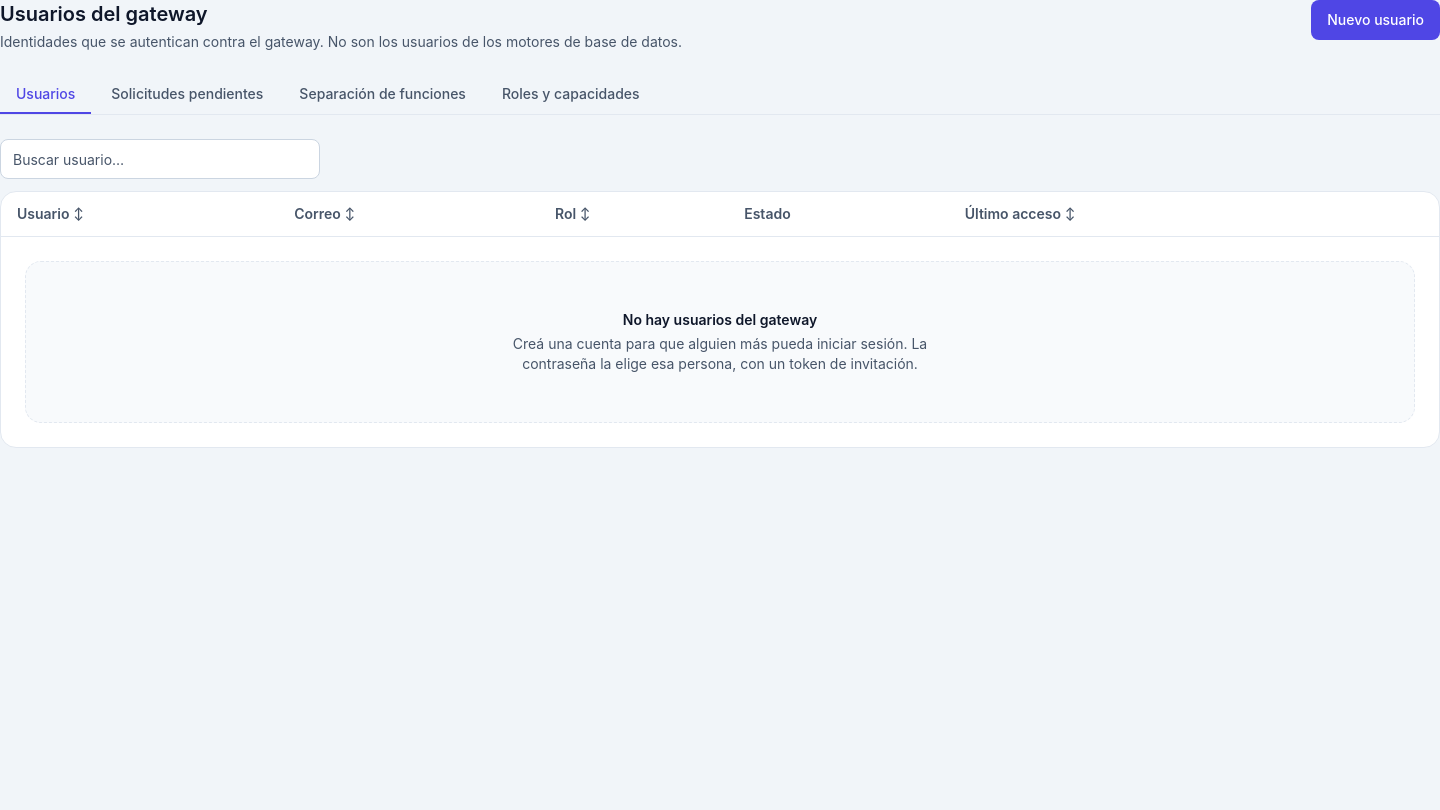
Test: GatewayUsersPage — alta con elevación pendiente (202) › entrega la invitación igual y dice, fijo, que el rol pedido espera a otra persona
Click the button "Nuevo usuario" at point(1376, 20), box [1311,0,1439,40]
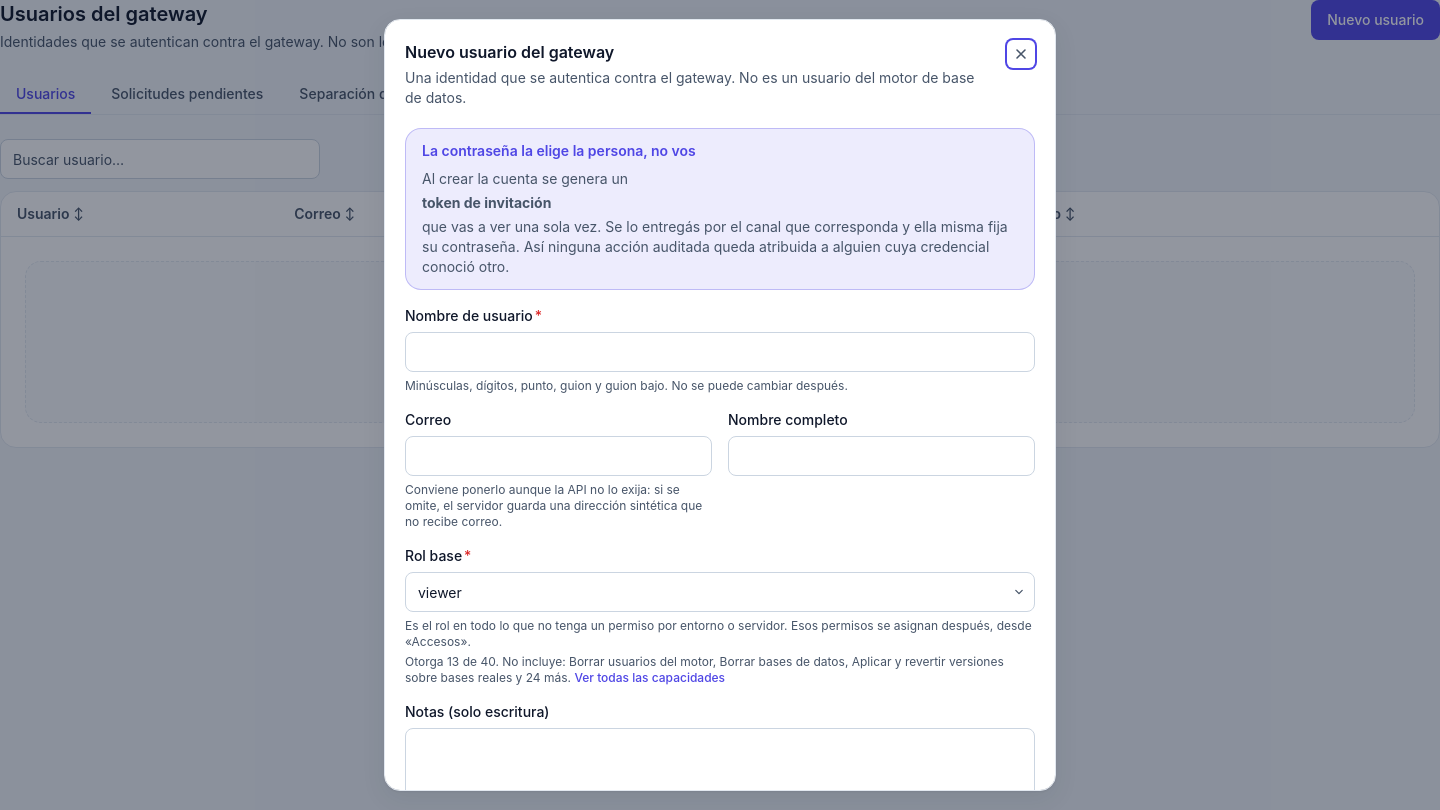
Type "ana" into the field labelled "Nombre de usuario*" at point(720, 352), box [405,332,1035,372]
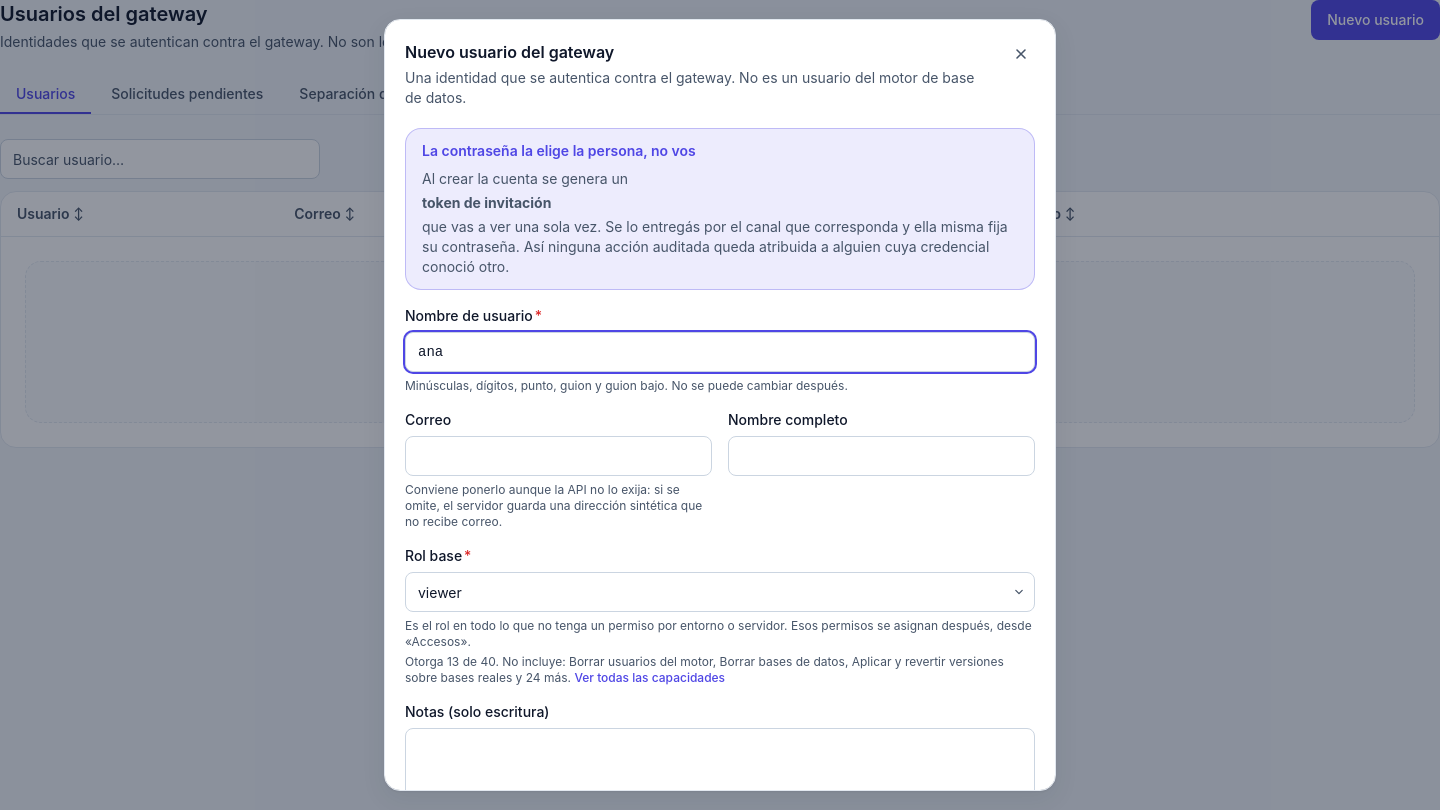
Click the button named "Abrir lista" at point(1019, 592), box [1007,580,1031,604]
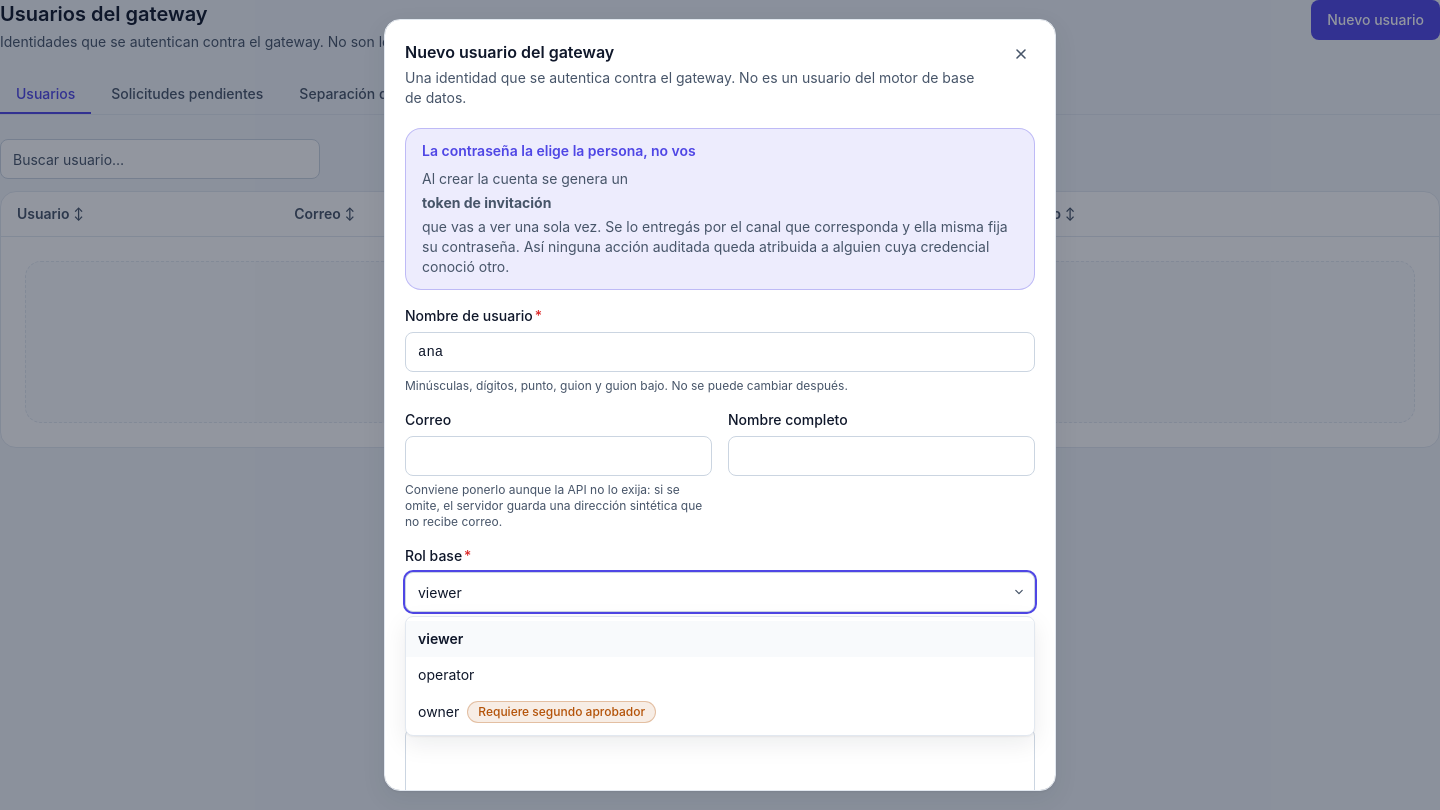
Click the option "owner Requiere segundo aprobador" at point(537, 712), box [418,701,656,723]
(page scrolled)
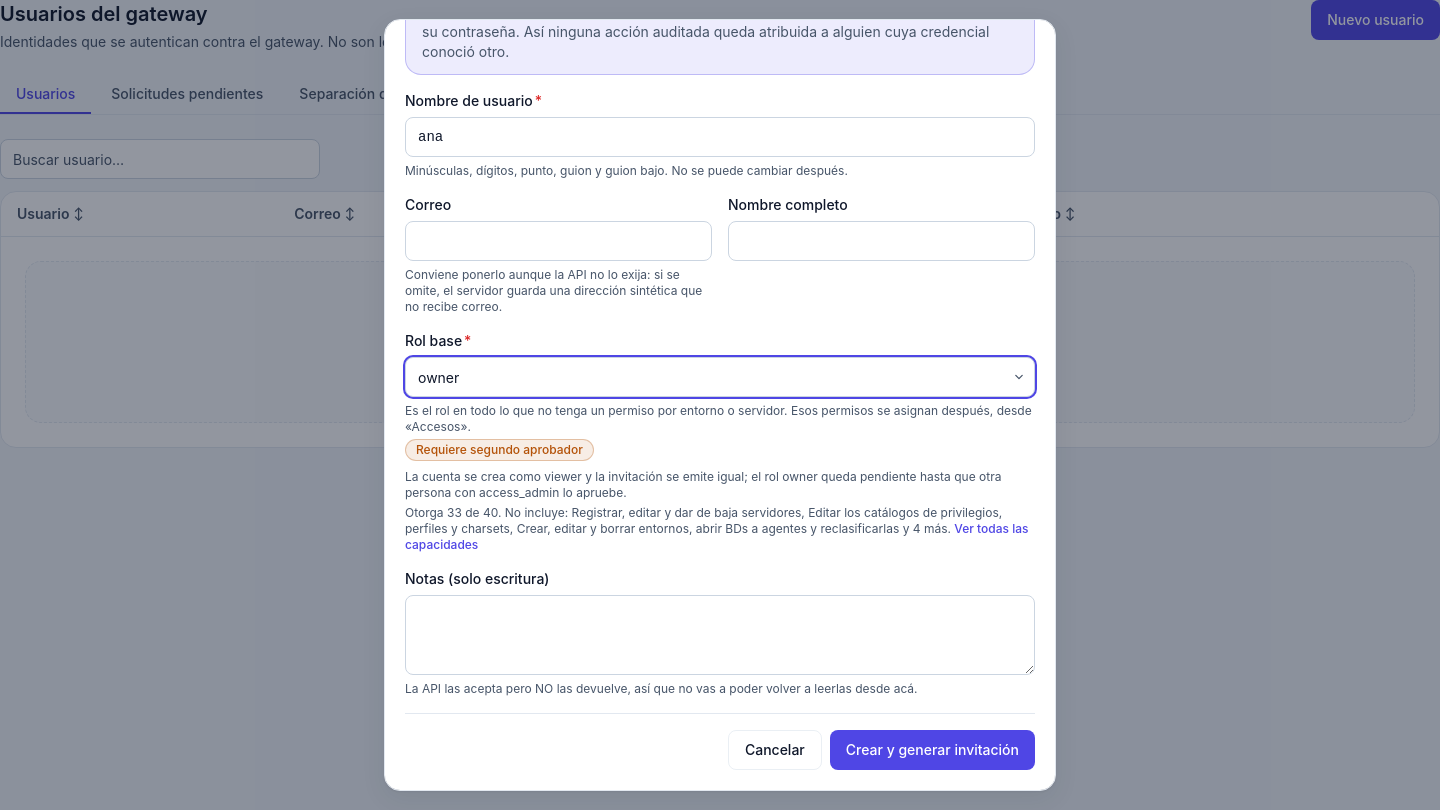
Click the button "Crear y generar invitación" at point(932, 750), box [830,730,1035,770]
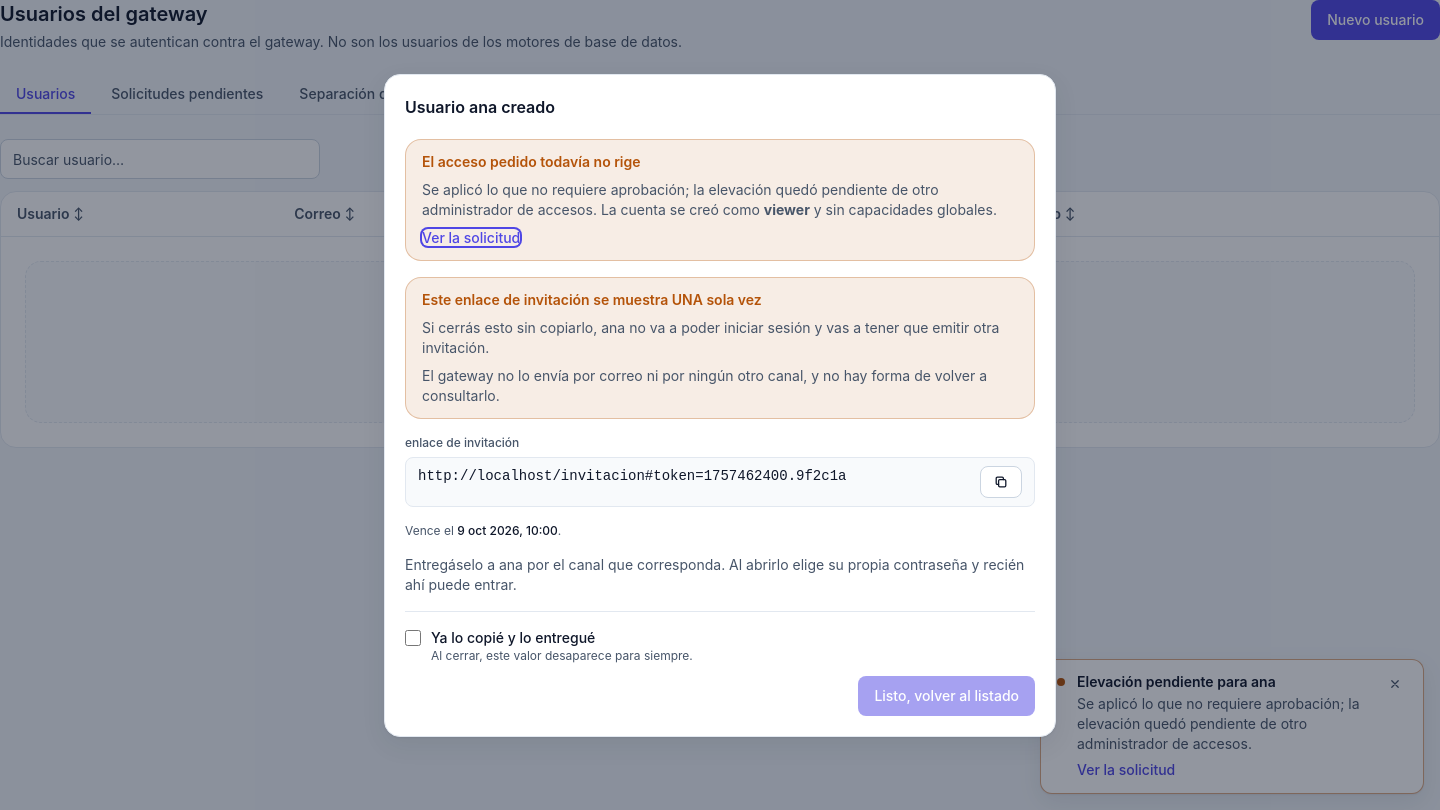
Now the heading "Usuario ana creado" is shown, box [405,94,555,118]
Now the text "El acceso pedido todavía no rige" is shown, box [422,152,640,170]
Now the text "La cuenta se creó como" shows "viewer", box [764,200,810,218]
